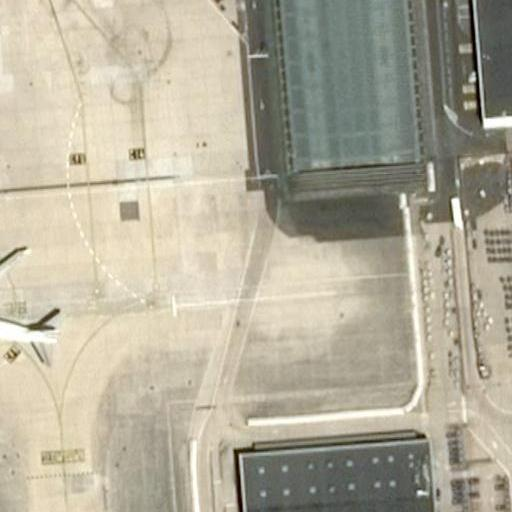Aircraft: (0, 269, 71, 378)
